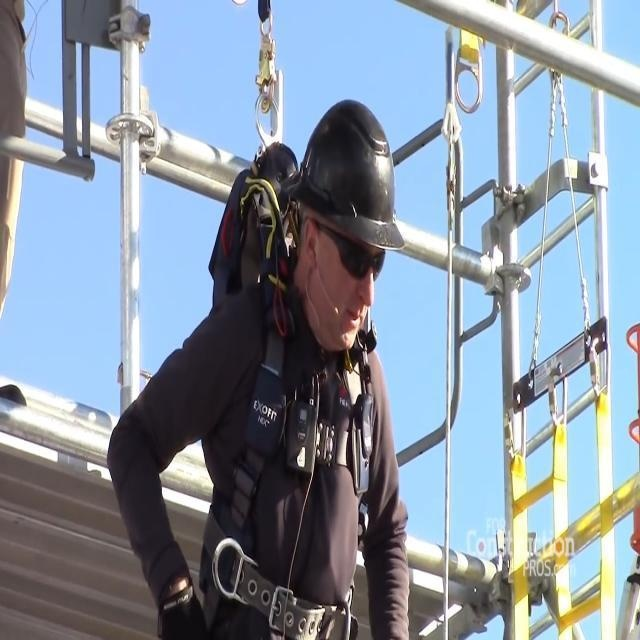Arnes_seguridad: (185, 162, 381, 640)
